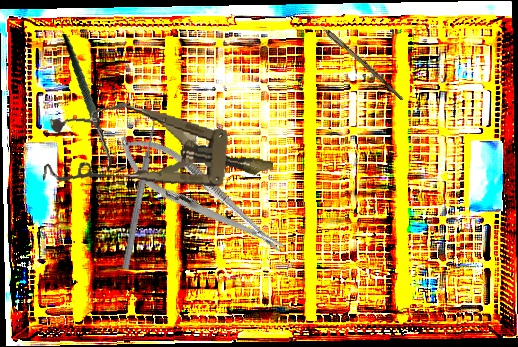Hook Surgical: (44, 33, 144, 175)
Needle Holder: (105, 120, 296, 271)
Pusher: (120, 115, 161, 271)
Speculum: (42, 94, 279, 211)
Surgical Spoon: (297, 5, 406, 101)
